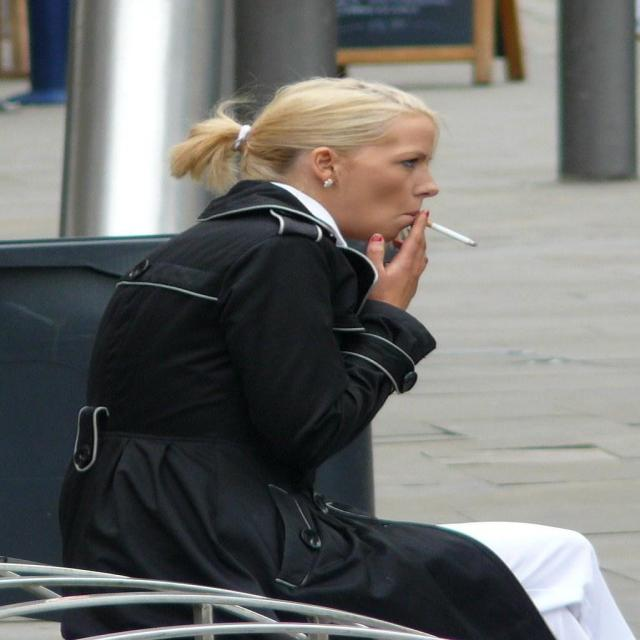Сигарета: (414, 211, 478, 248)
Тело: (65, 77, 633, 640)
